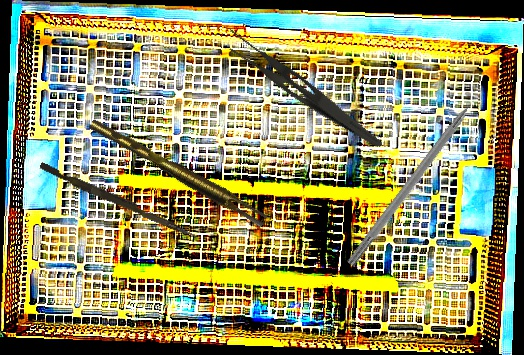Dressing Forceps: (215, 26, 395, 150)
Hook Surgical: (345, 84, 490, 269)
Pusher: (37, 162, 200, 239)
Tissue Forceps: (88, 109, 269, 234)
